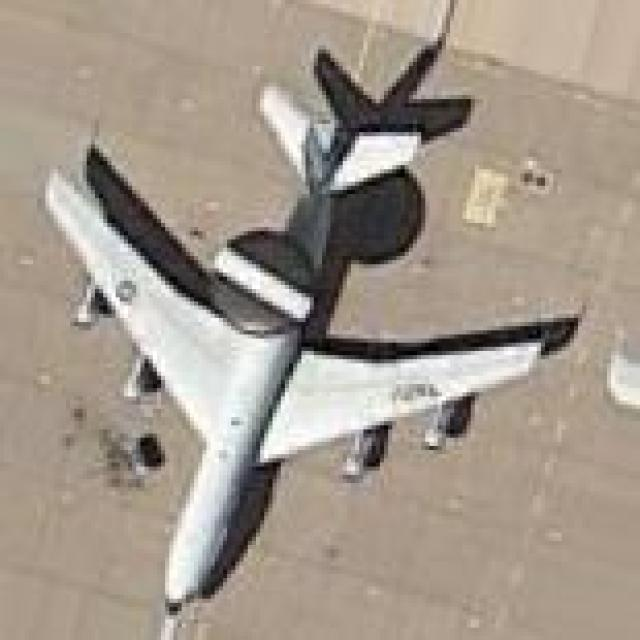E-3_TopDown: (33, 0, 586, 636)
